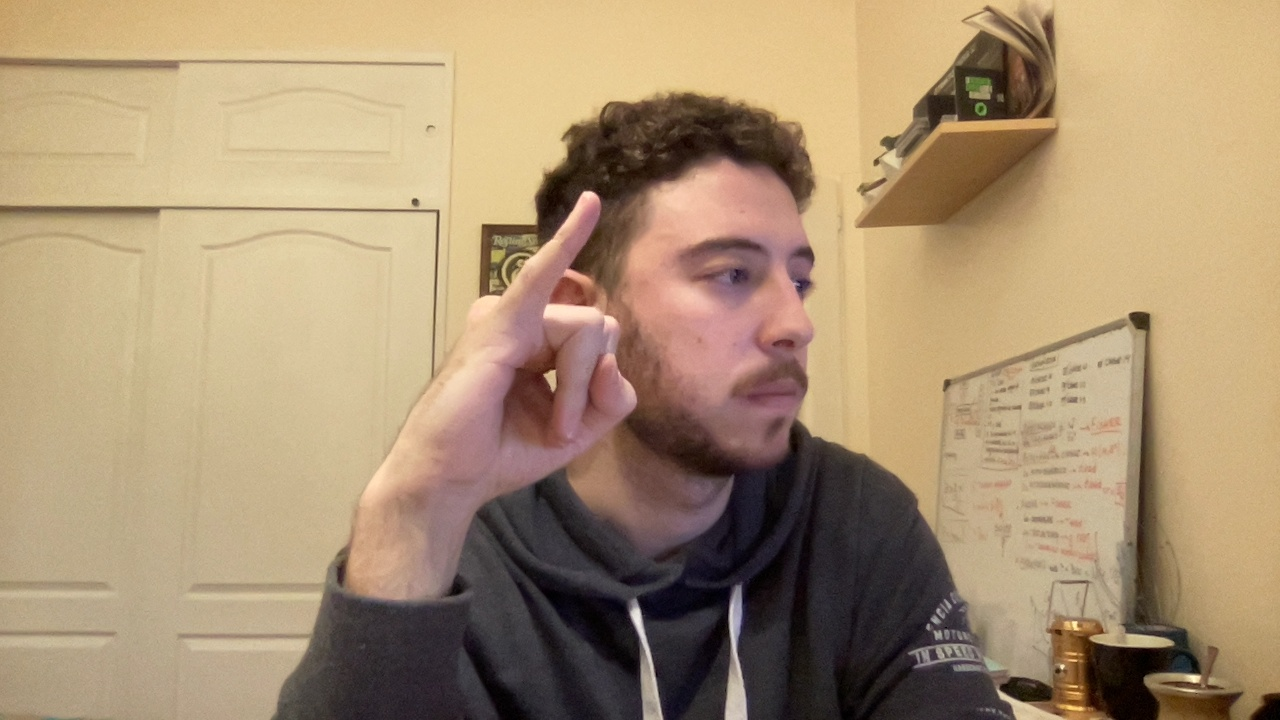menique: (349, 160, 647, 537)
